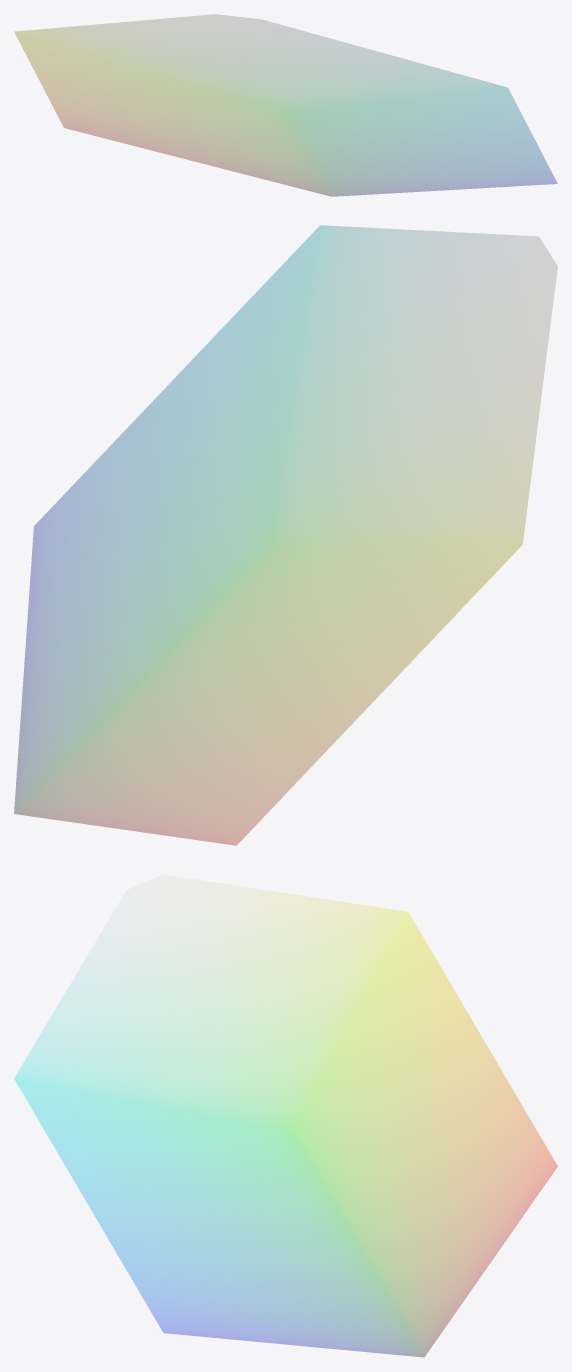
Rendered from CubeMesh.fbx.
The picture shows the model from 3 angles, top to bottom: view 1: azimuth 30°, elevation 25°; view 2: azimuth 150°, elevation 25°; view 3: azimuth 270°, elevation 25°; orthographic projection. The views are drawn at different scales.
Parts seen in each view (by area): view 1: polymsh_detached; view 2: polymsh_detached; view 3: polymsh_detached.
Part boxes in pixels (<box>): polymsh_detached: <box>14,14,557,196</box>; polymsh_detached: <box>14,225,557,845</box>; polymsh_detached: <box>14,874,557,1356</box>.
Bounding box in the file's own units: 0.9747 × 0.7071 × 0.9749.
